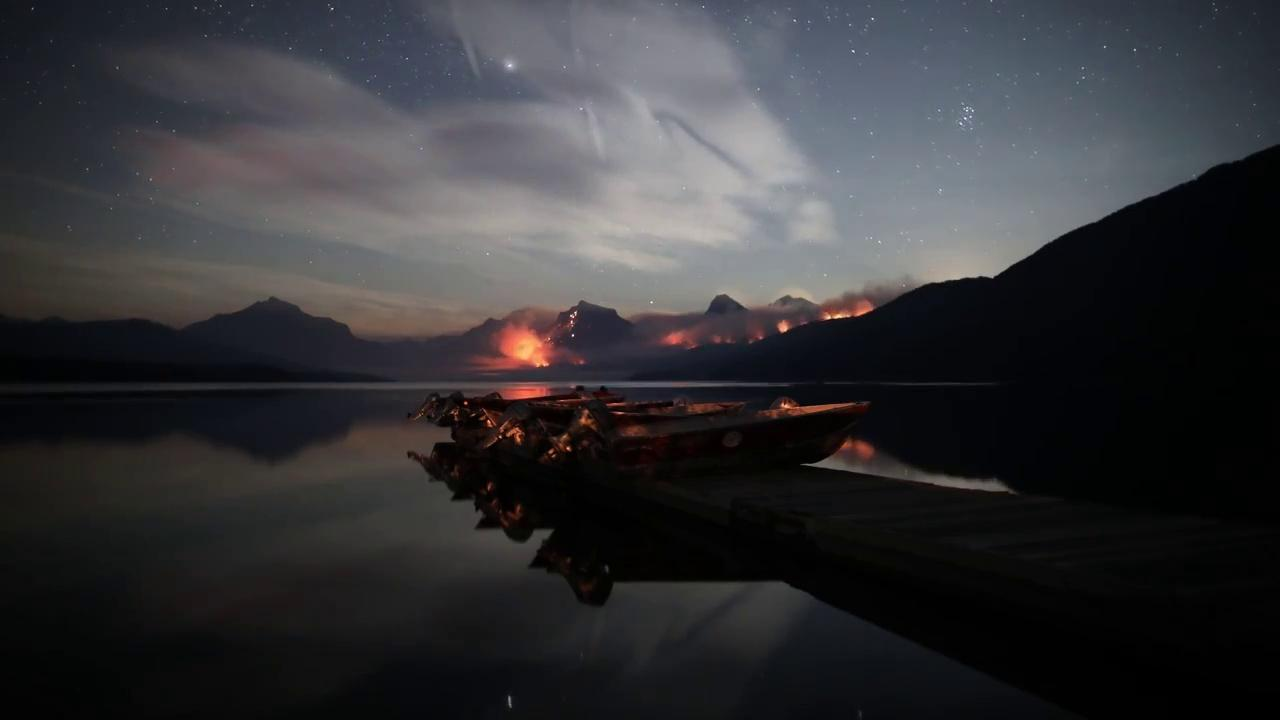fire: (502, 330, 542, 368), (770, 318, 794, 336), (658, 334, 688, 348)
